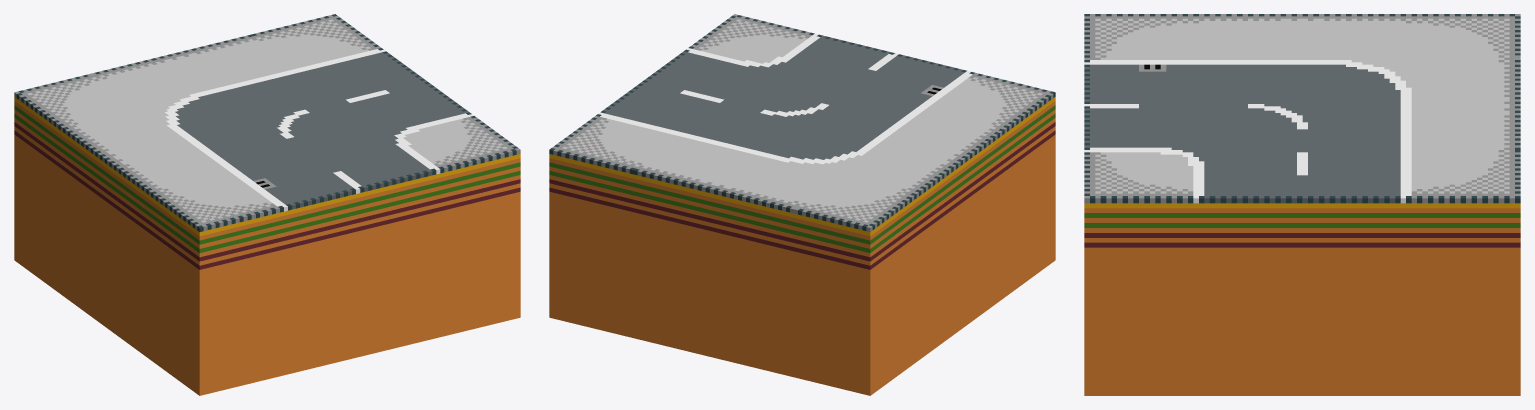
Rendered from snow_road_2_tile.obj.
3 views of the same model, side by side, from view 1: azimuth 30°, elevation 25°; view 2: azimuth 150°, elevation 25°; view 3: azimuth 270°, elevation 25° (orthographic). The views are drawn at different scales.
Bounding box in the file's own units: 8 × 4 × 8.
Materials: 1 (1 with a texture image).
